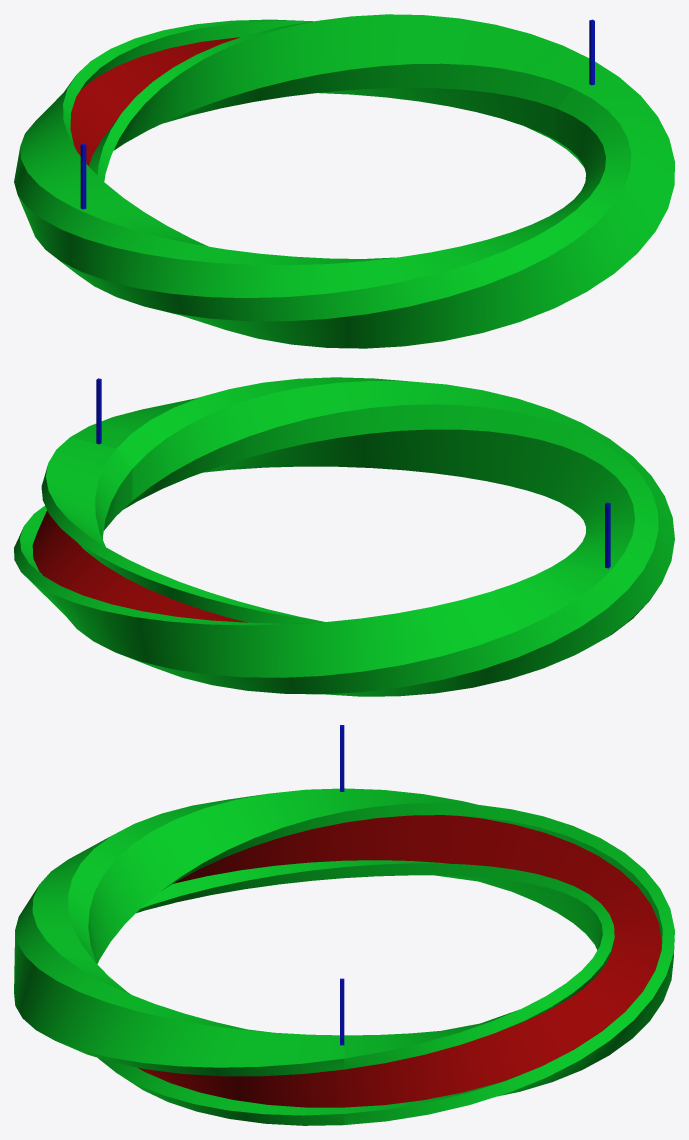
The model's file is zyrandol.FBX.
The picture shows the model from 3 angles, top to bottom: view 1: azimuth 30°, elevation 25°; view 2: azimuth 150°, elevation 25°; view 3: azimuth 270°, elevation 25°; orthographic projection. The views are drawn at different scales.
Visible parts, largest first — view 1: zyrandol; view 2: zyrandol; view 3: zyrandol.
Part boxes in pixels (bbox=[...]): zyrandol: bbox=[14, 14, 674, 348]; zyrandol: bbox=[14, 377, 674, 696]; zyrandol: bbox=[14, 725, 674, 1125].
Bounding box in the file's own units: 79.43 × 19.33 × 79.61.
